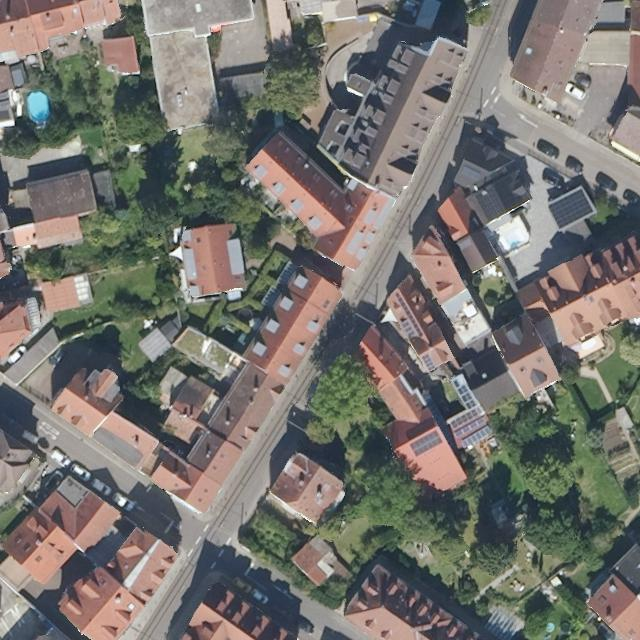PV: (545, 187, 596, 232), (393, 290, 425, 337), (409, 427, 443, 458), (457, 424, 494, 452), (445, 405, 483, 431), (452, 415, 488, 440), (458, 384, 478, 410), (400, 319, 420, 342), (419, 352, 439, 372)
